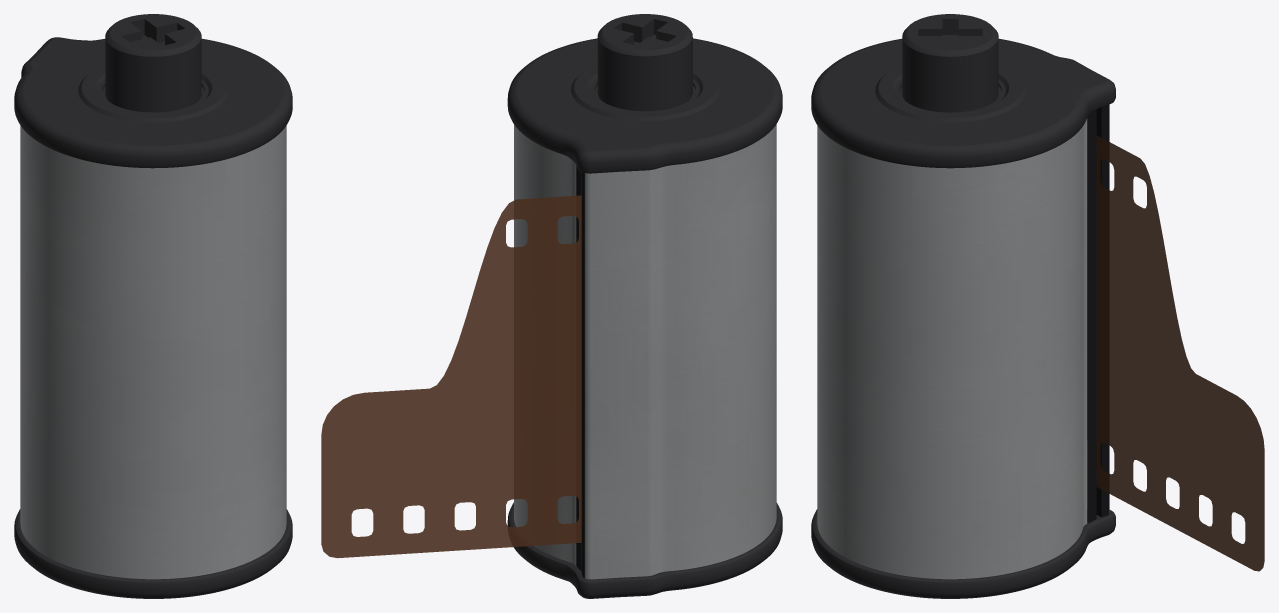
Rendered from film-cartridge-v2.glb.
3 renders of one model, left to right at view 1: azimuth 30°, elevation 25°; view 2: azimuth 150°, elevation 25°; view 3: azimuth 270°, elevation 25°, orthographic.
Visible parts, largest first — view 1: Cassette; view 2: Cassette, Leader; view 3: Cassette, Leader.
Part boxes in pixels (left/top/right/bottom): Cassette: left=14, top=14, right=292, bottom=598; Cassette: left=507, top=14, right=782, bottom=598; Leader: left=321, top=195, right=581, bottom=558; Cassette: left=811, top=14, right=1115, bottom=598; Leader: left=1096, top=135, right=1264, bottom=571.
Bounding box in the file's own units: 0.5922 × 1 × 0.7976.
Materials: 2 (1 with a texture image).
